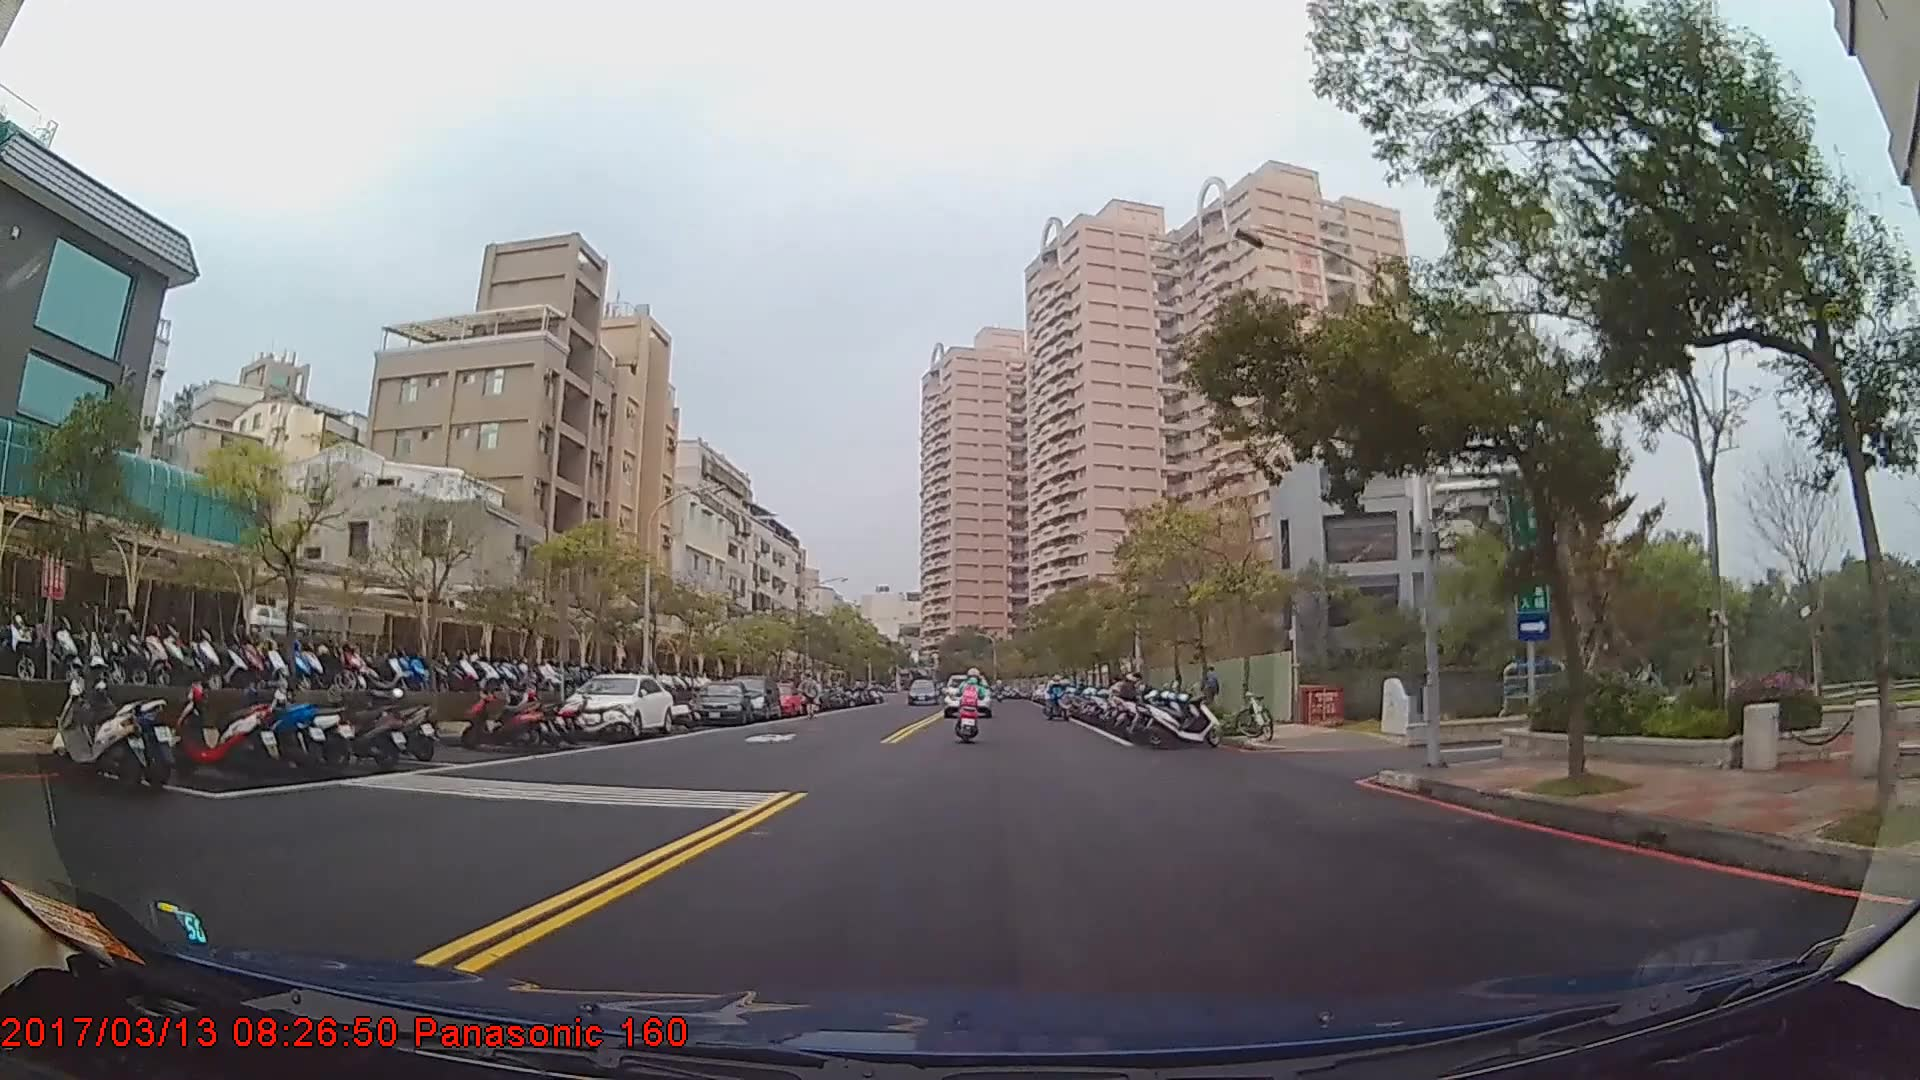pedestrian: (1200, 666, 1222, 722), (798, 675, 820, 721)
rider: (957, 673, 987, 745), (1046, 678, 1070, 723)
vehicle: (560, 674, 674, 740), (724, 670, 784, 718), (688, 680, 751, 725), (943, 670, 992, 717), (907, 677, 936, 703)
